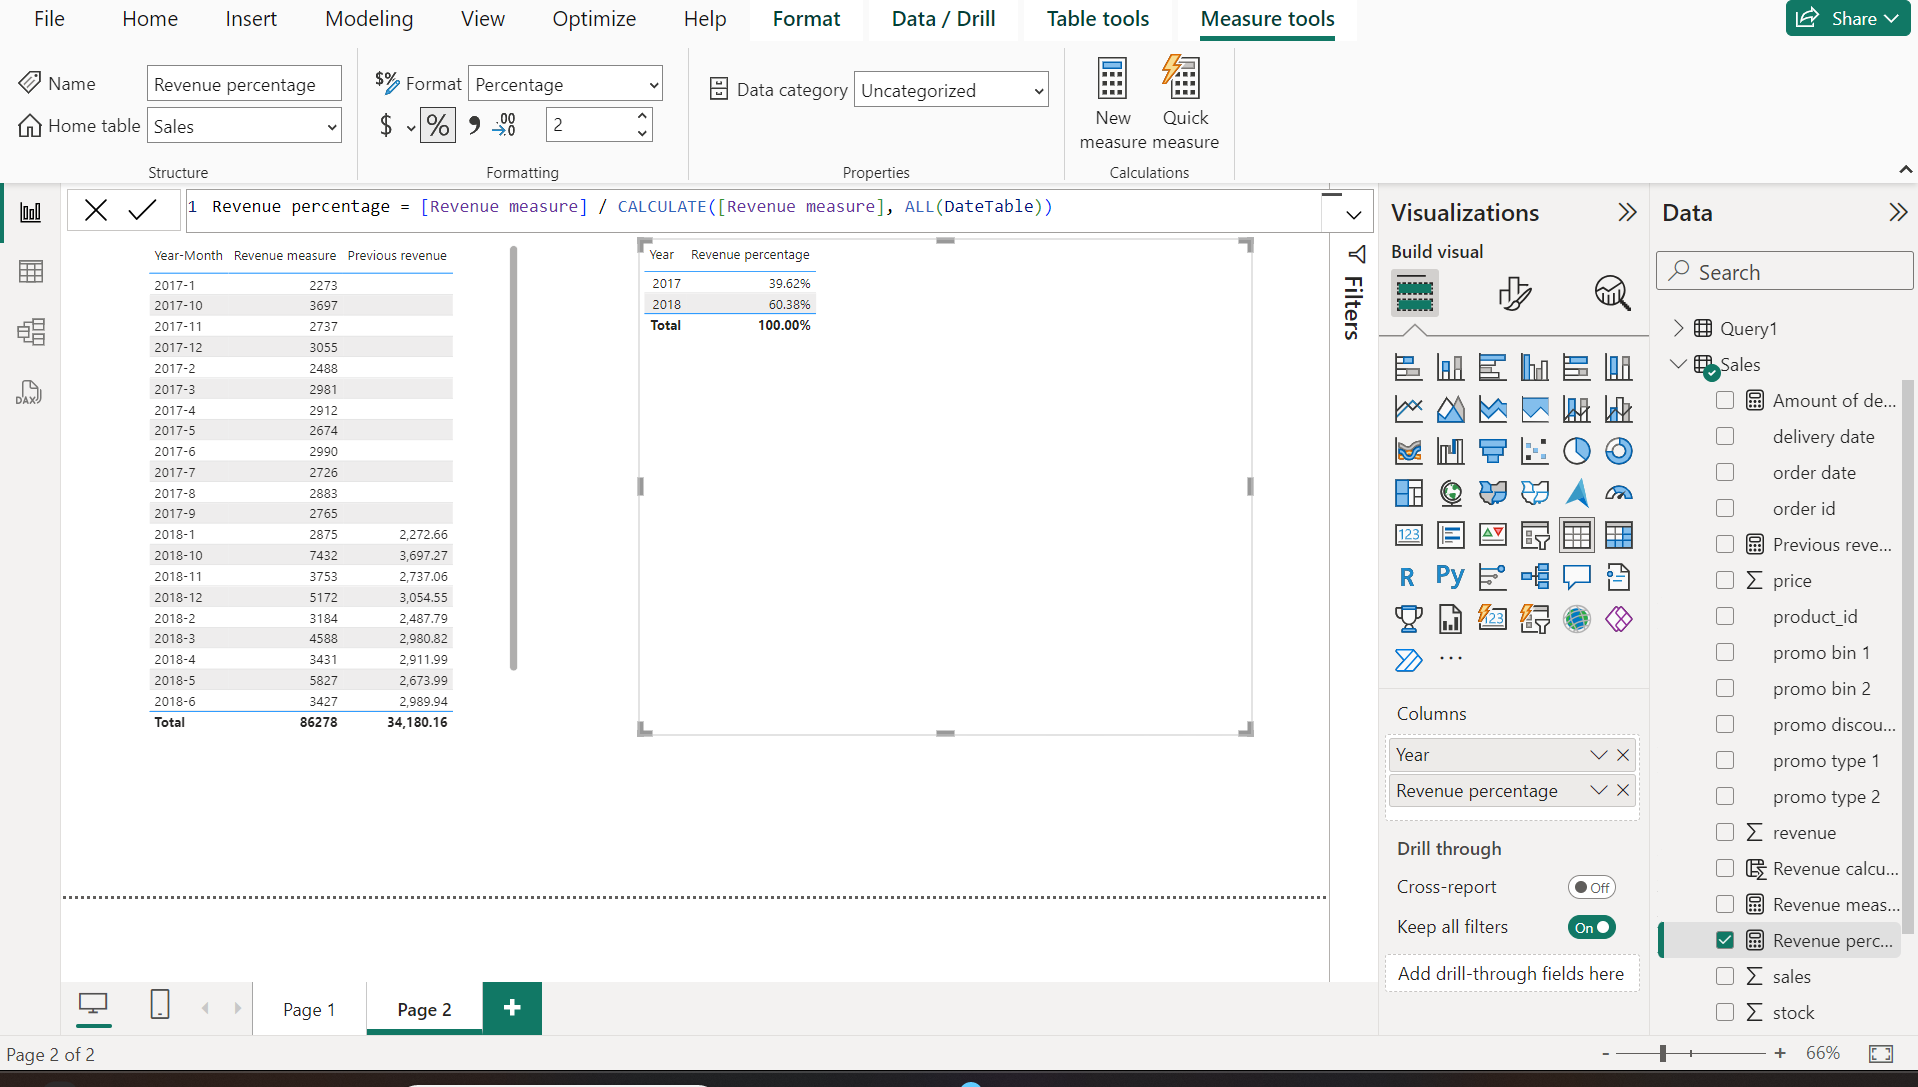

What the dashboard file says about the page in this screenshot:
{"tool":"powerbi","page":{"name":"Page 2","canvas":[1280,720],"ordinal":6},"visuals":[{"type":"lineChart","fields":{"Category":["DateTable.Date"],"Y":["Sales.Revenue measure"]},"box":[261.9,86.9,846.5,487.9],"z":0}]}

Visuals, with their boxes on the page's 1280x720 design canvas (x1, y1, x2, y2). These are canvas units, not pixel positions in the 1918x1087 screenshot, which may show the page scaled, cropped or inside an application window:
lineChart - DateTable.Date x Sales.Revenue measure: box=[262, 87, 1108, 575]
